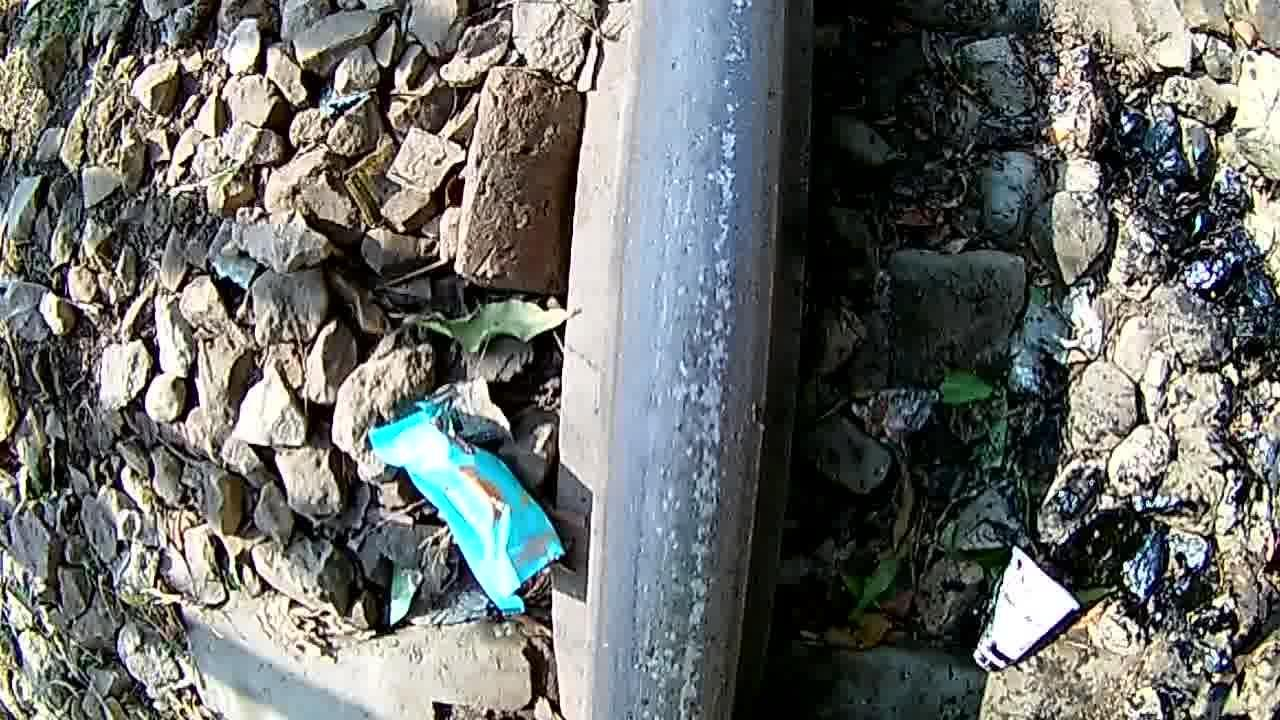crack: (602, 2, 806, 720)
